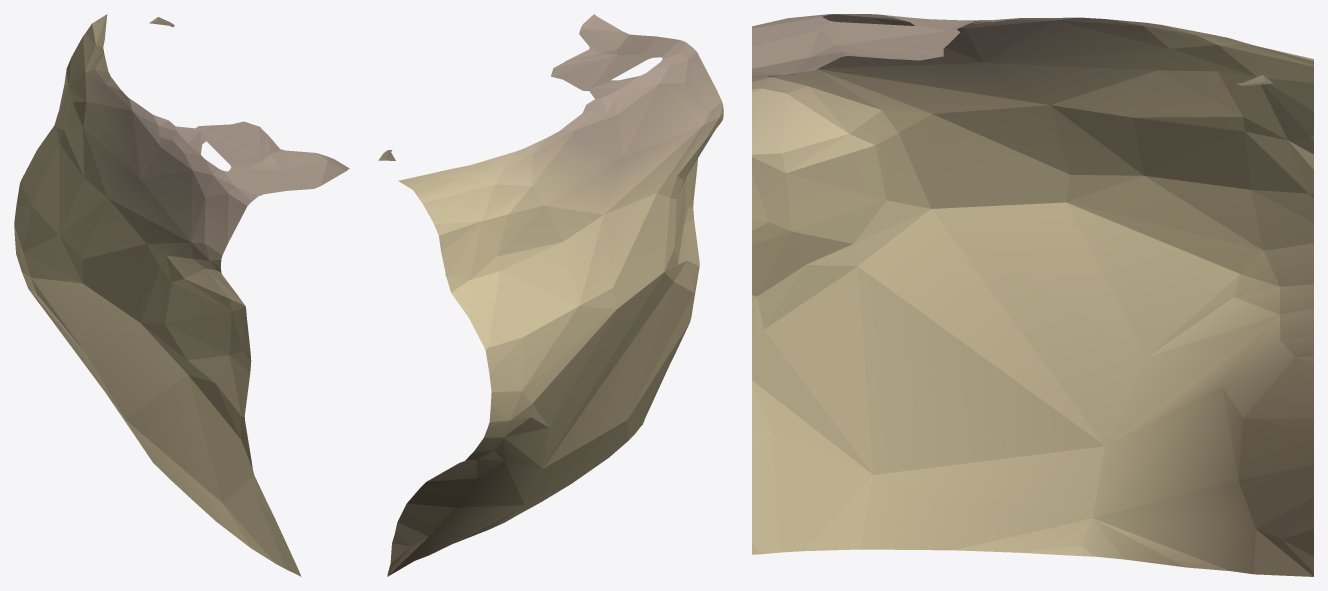
File: bisect-6-3-5.gltf
The picture shows the model from 3 angles, left to right: view 1: azimuth 30°, elevation 25°; view 2: azimuth 150°, elevation 25°; view 3: azimuth 270°, elevation 25°; orthographic projection. The views are drawn at different scales.
Parts seen in each view (by area): view 1: bisect-6-3-5; view 2: bisect-6-3-5; view 3: bisect-6-3-5.
Part boxes in pixels (x1,y1,x2,y2): bisect-6-3-5: [14, 14, 349, 576]; bisect-6-3-5: [378, 14, 723, 576]; bisect-6-3-5: [752, 14, 1313, 576].
Bounding box in the file's own units: 8.45 × 20 × 20.
